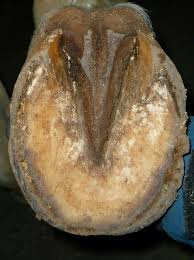horsesole: (6, 30, 190, 235)
